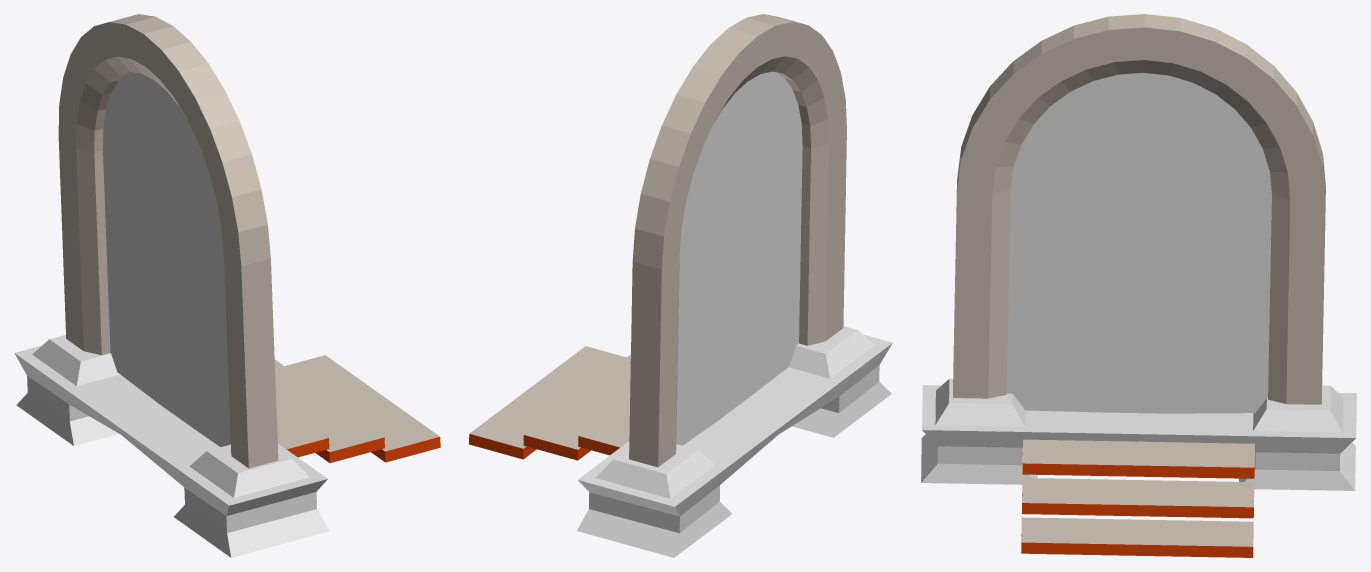
Rendered from portal_zen.fbx.
3 views of the same model, side by side, from view 1: azimuth 30°, elevation 25°; view 2: azimuth 150°, elevation 25°; view 3: azimuth 270°, elevation 25° (orthographic).
Visible parts, largest first — view 1: Portal 2.001, Portal 2 Animation.001, Portal 2 Cube 2.001, Portal 2 Ark.001, Portal 2 Cube.001; view 2: Portal 2.001, Portal 2 Animation.001, Portal 2 Cube 2.001, Portal 2 Cube.001, Portal 2 Ark.001; view 3: Portal 2 Animation.001, Portal 2.001, Portal 2 Ark.001, Portal 2 Cube 2.001, Portal 2 Cube.001.
Boxes of the visible parts, x1=… form: Portal 2.001: x1=58, y1=14, x2=278, y2=468; Portal 2 Animation.001: x1=103, y1=72, x2=230, y2=447; Portal 2 Cube 2.001: x1=72, y1=379, x2=329, y2=557; Portal 2 Ark.001: x1=274, y1=355, x2=440, y2=462; Portal 2 Cube.001: x1=14, y1=335, x2=166, y2=461; Portal 2.001: x1=629, y1=14, x2=846, y2=467; Portal 2 Animation.001: x1=676, y1=71, x2=802, y2=445; Portal 2 Cube 2.001: x1=683, y1=326, x2=892, y2=462; Portal 2 Cube.001: x1=577, y1=391, x2=828, y2=557; Portal 2 Ark.001: x1=469, y1=346, x2=630, y2=460; Portal 2 Animation.001: x1=1006, y1=72, x2=1271, y2=413; Portal 2.001: x1=953, y1=14, x2=1325, y2=404; Portal 2 Ark.001: x1=1021, y1=439, x2=1254, y2=557; Portal 2 Cube 2.001: x1=921, y1=378, x2=1240, y2=484; Portal 2 Cube.001: x1=1142, y1=385, x2=1356, y2=490.
Size of the model in its own units: 354 by 574 by 511.
